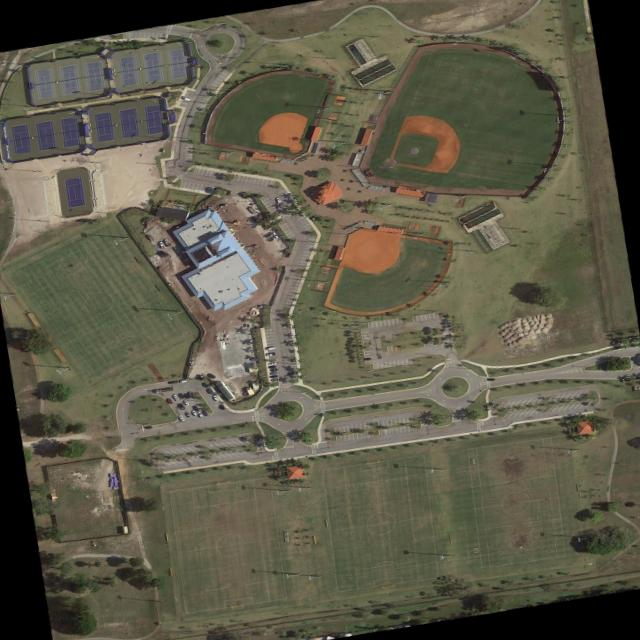small-vehicle: (163, 238, 172, 247), (205, 372, 216, 379), (158, 241, 167, 249), (269, 235, 279, 242), (206, 387, 214, 395), (177, 403, 186, 410), (212, 395, 220, 402), (201, 381, 209, 388), (172, 394, 180, 401), (186, 390, 194, 397), (201, 409, 209, 416), (197, 411, 205, 418), (181, 96, 192, 101), (287, 370, 298, 375), (267, 231, 276, 237), (184, 411, 191, 418), (191, 410, 198, 417), (182, 399, 189, 406), (165, 398, 173, 404), (177, 393, 185, 399), (192, 405, 200, 411), (178, 415, 186, 421), (267, 352, 276, 357), (266, 346, 276, 350), (168, 380, 178, 384), (276, 197, 282, 203), (269, 371, 278, 375), (269, 374, 278, 378), (183, 393, 189, 399), (180, 379, 188, 383), (268, 361, 276, 365), (268, 365, 276, 369), (269, 368, 278, 371), (364, 357, 372, 360), (271, 378, 279, 381), (145, 425, 152, 428), (486, 378, 495, 380)
